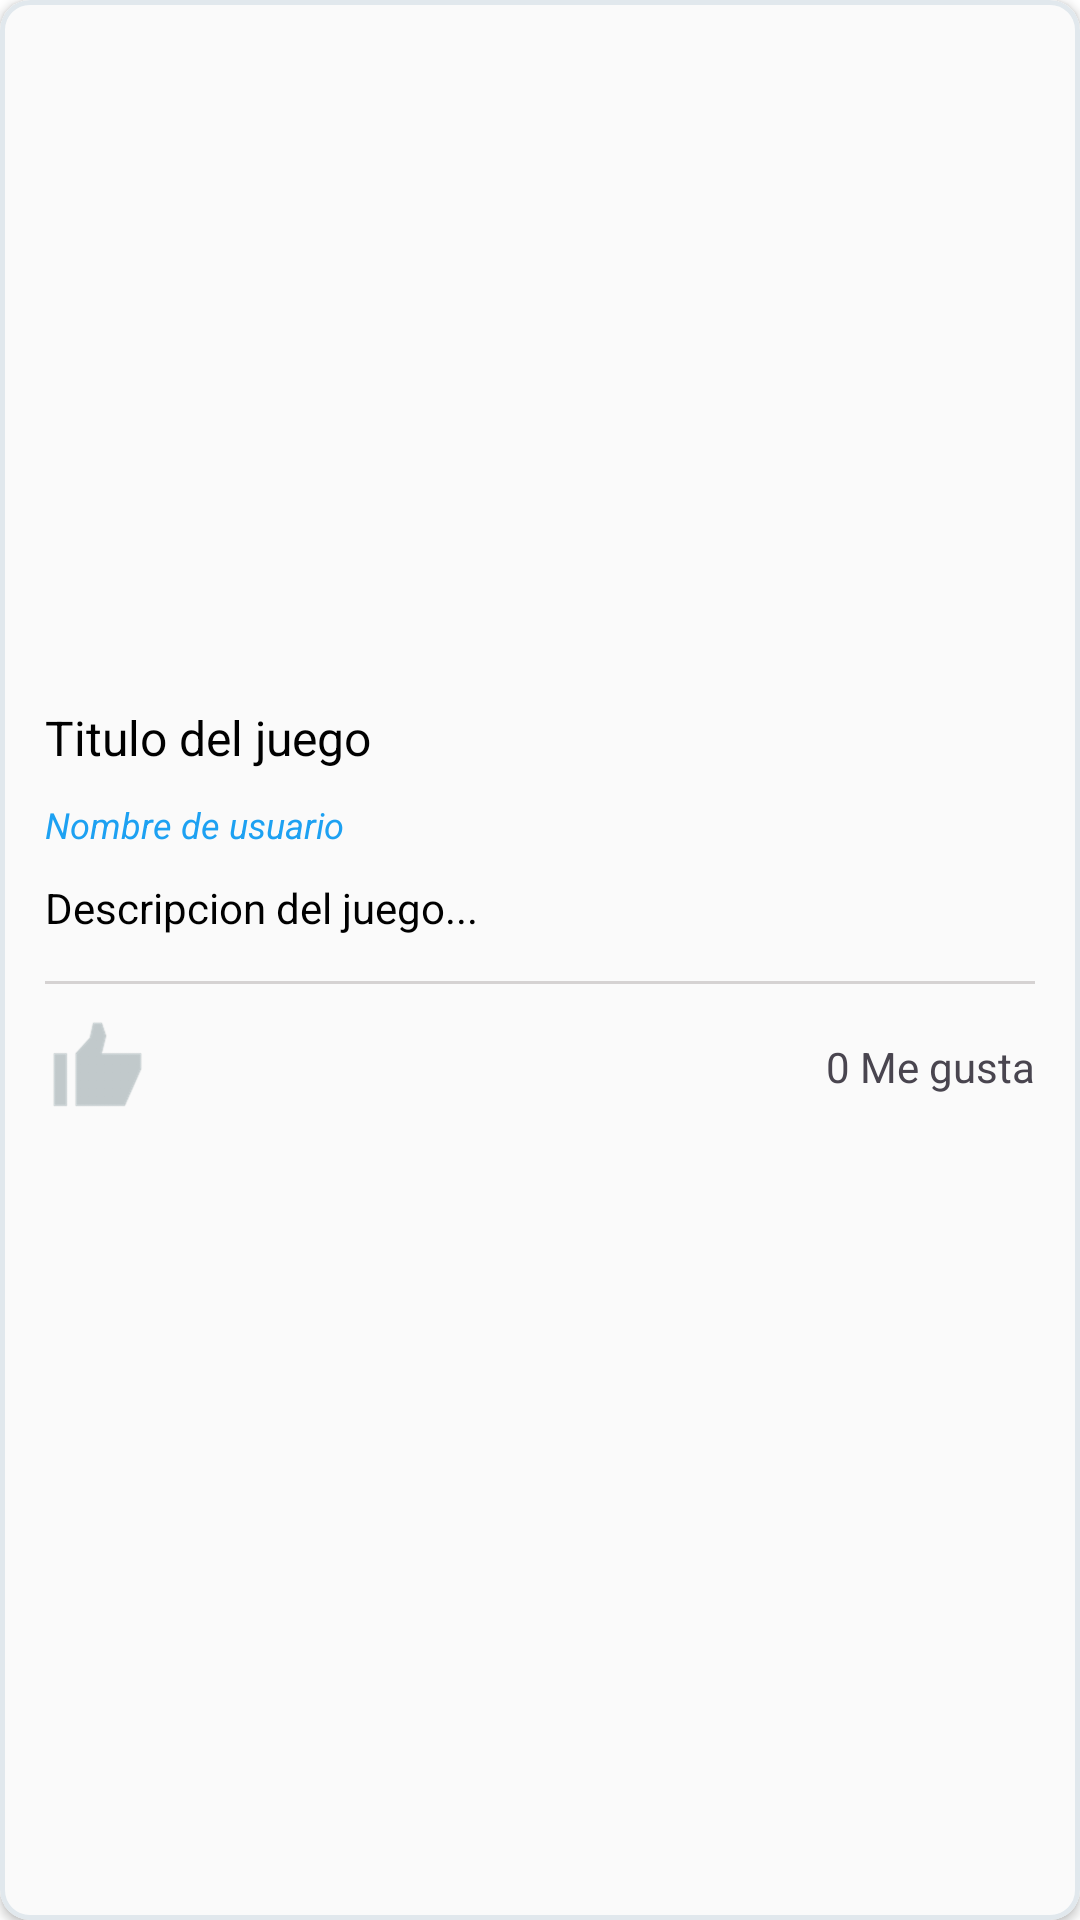

Point at icon controls on the screen. Image size 1080 x 1920, points as (x=x, y=y).
like: (x=97, y=1064)
